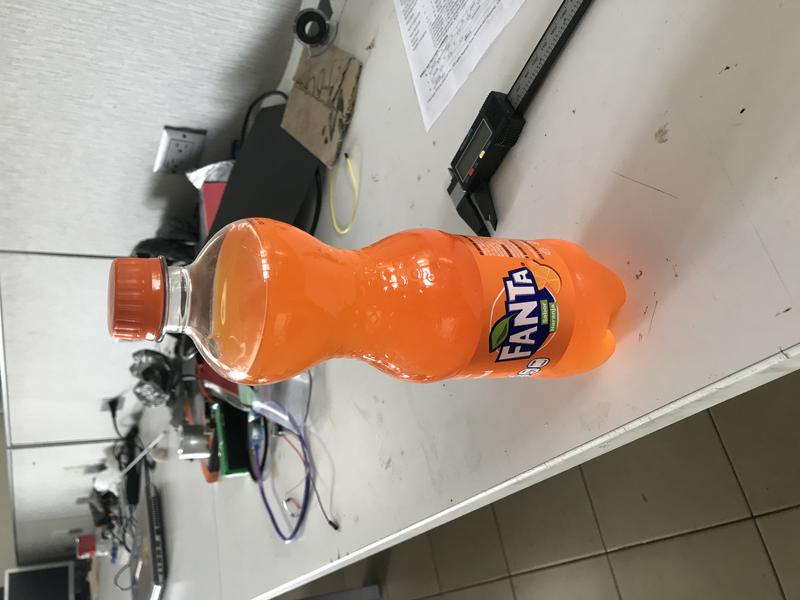fanta: (106, 216, 628, 387)
